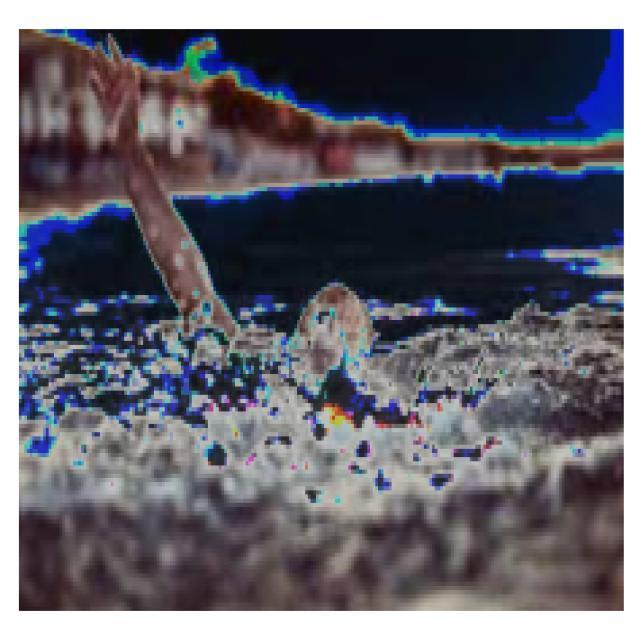Out of Water: (80, 32, 383, 380)
